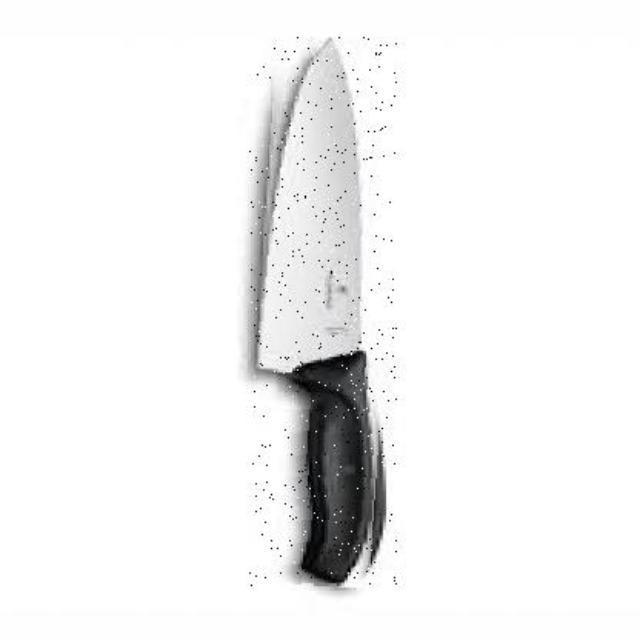Knife: (250, 38, 398, 586)
